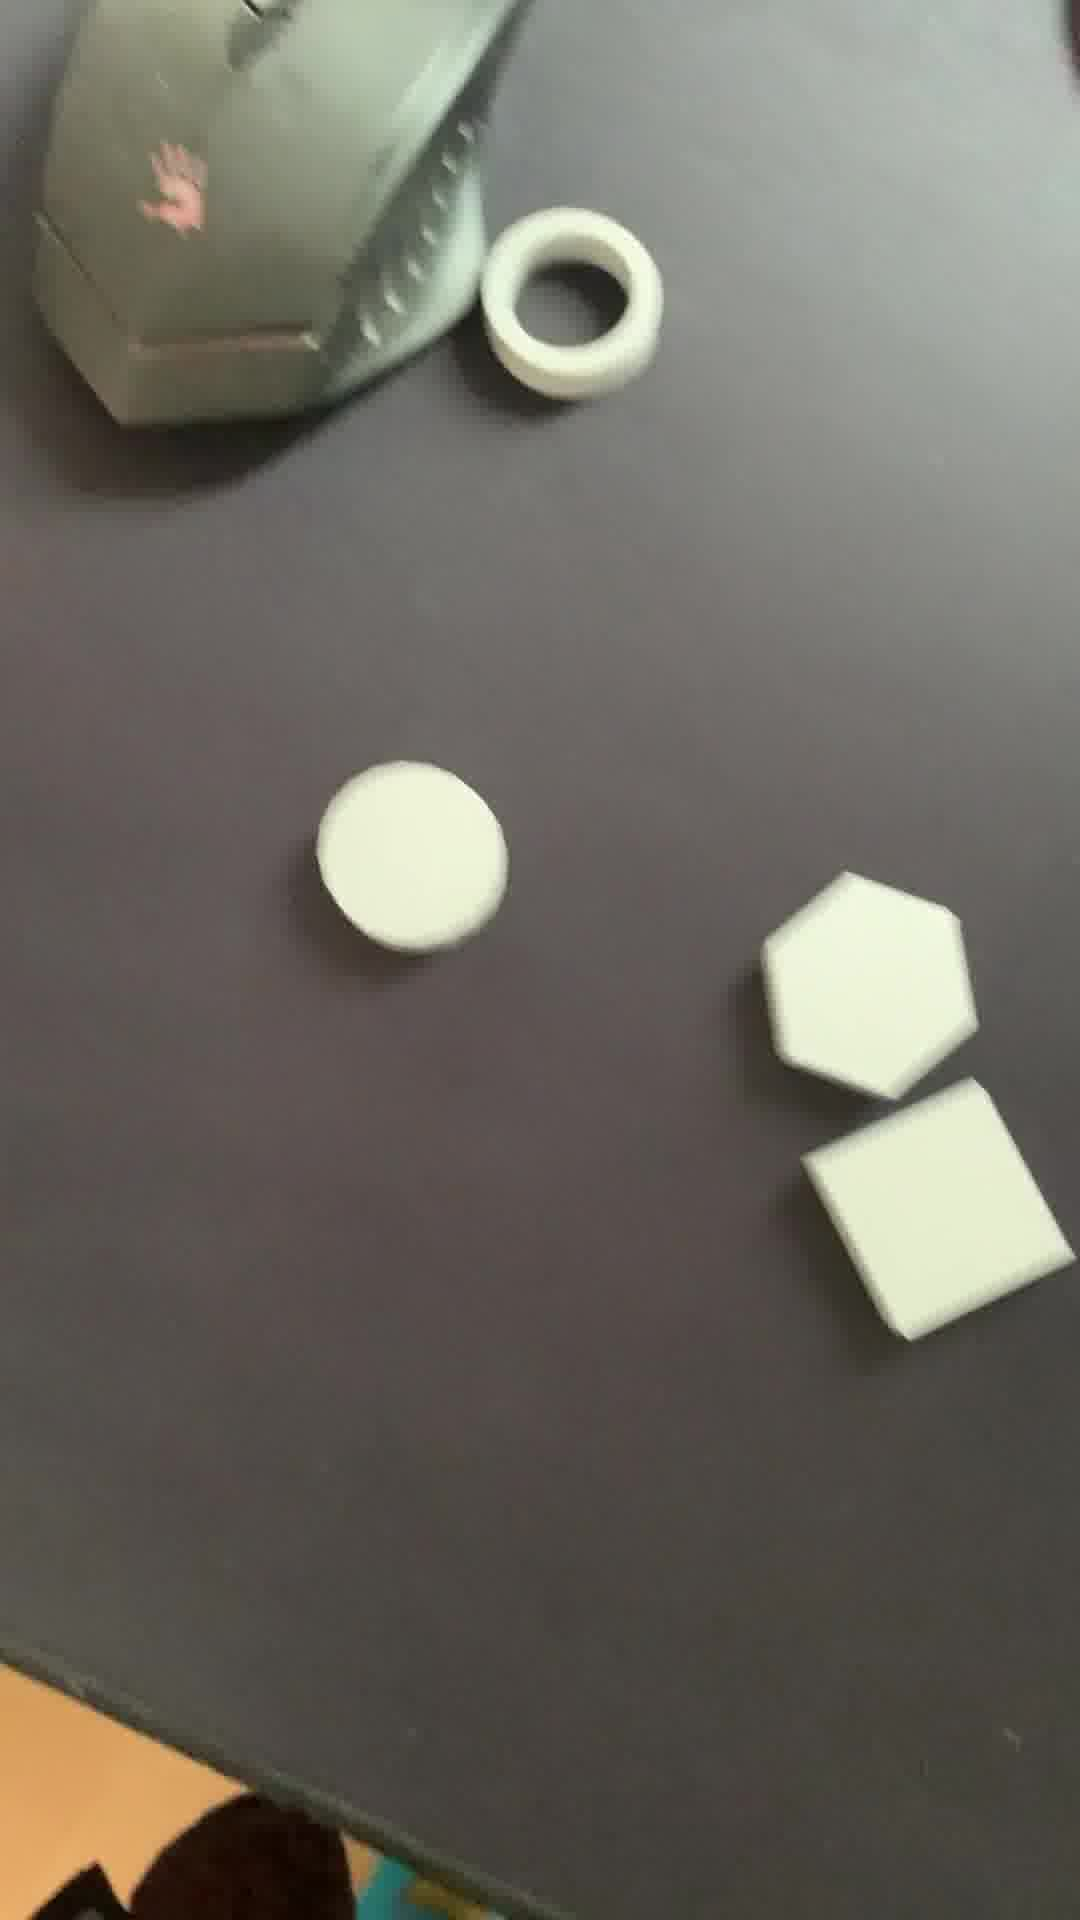Gray circle: (313, 746, 539, 959)
Gray hexagon: (764, 865, 994, 1102)
Gray ring: (469, 206, 688, 414)
Gray square: (811, 1083, 1048, 1324)
